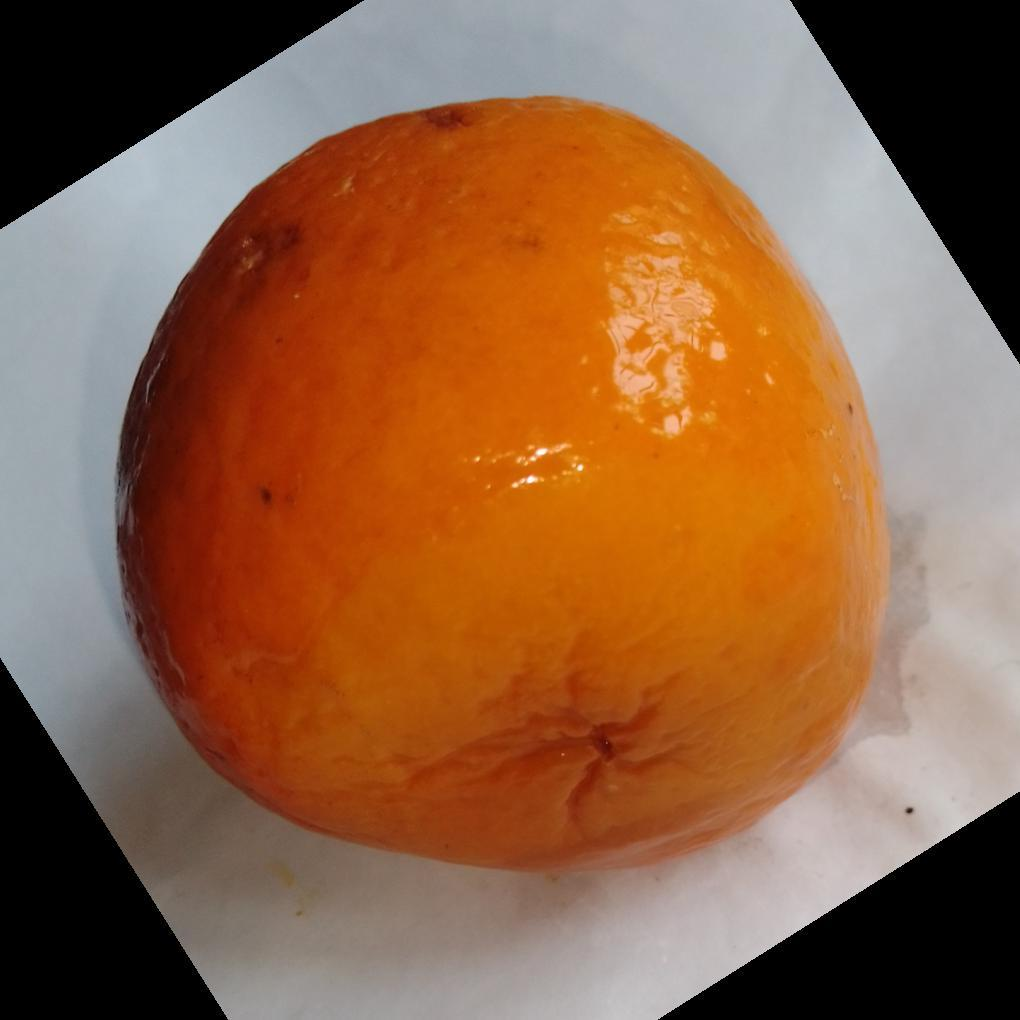FreshOrange: (111, 96, 892, 879)
